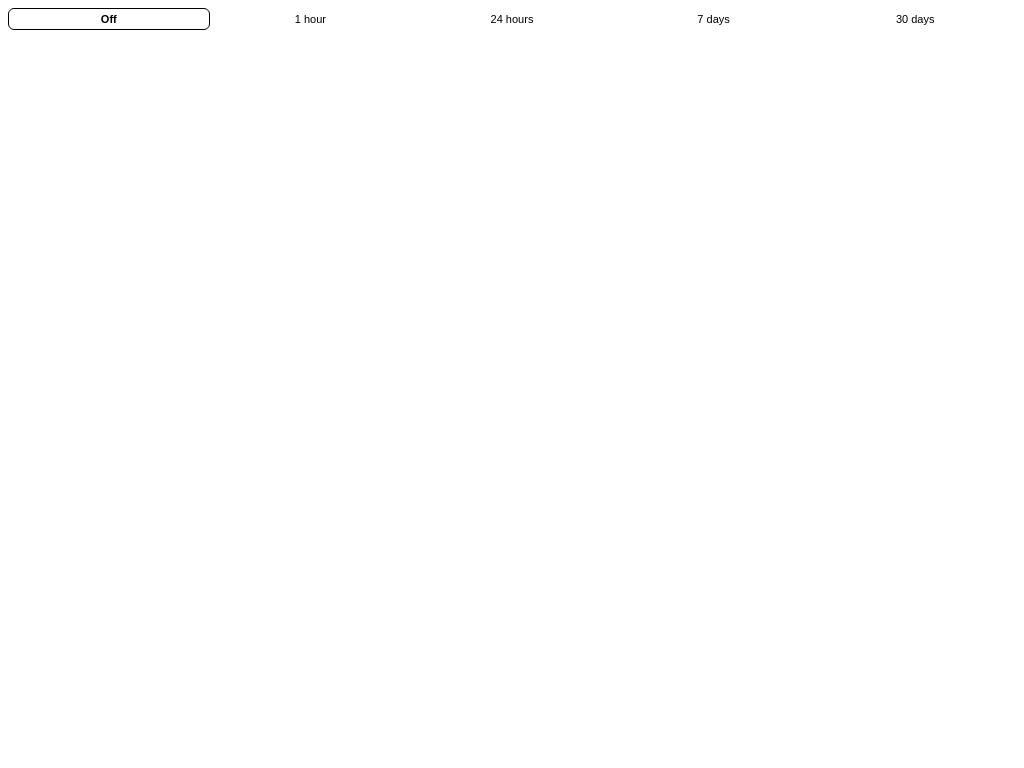
Scenario: MessageExpirationEditor › shows the chosen 1 hour duration in the confirmation disclosure
Click the button "1 hour".
click(310, 19)  # box [210,8,411,30]
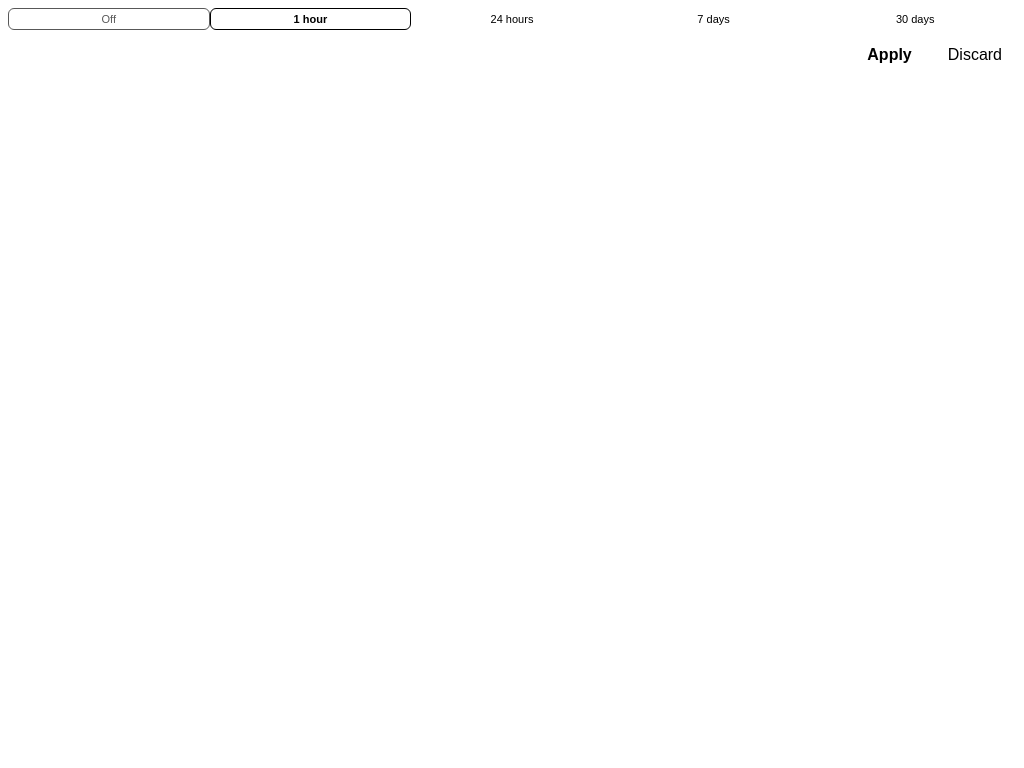
Click the button "Apply".
click(890, 55)  # box [853,40,926,70]
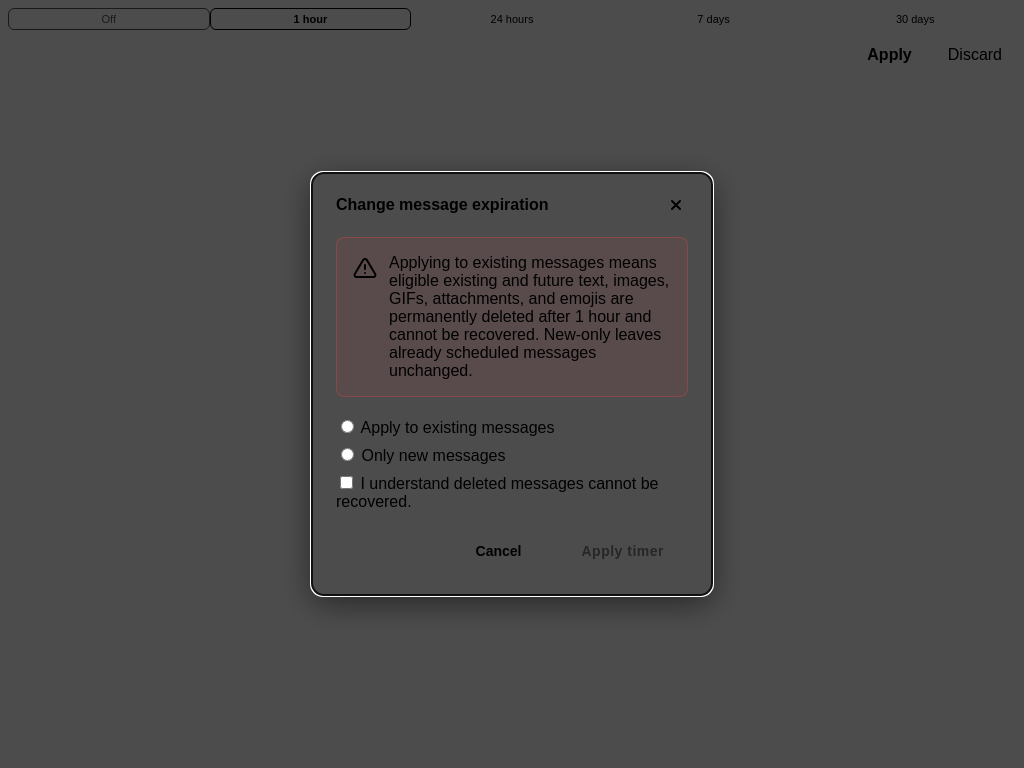
Check: the text "after 1 hour" is shown, box [389,254,669,379]
